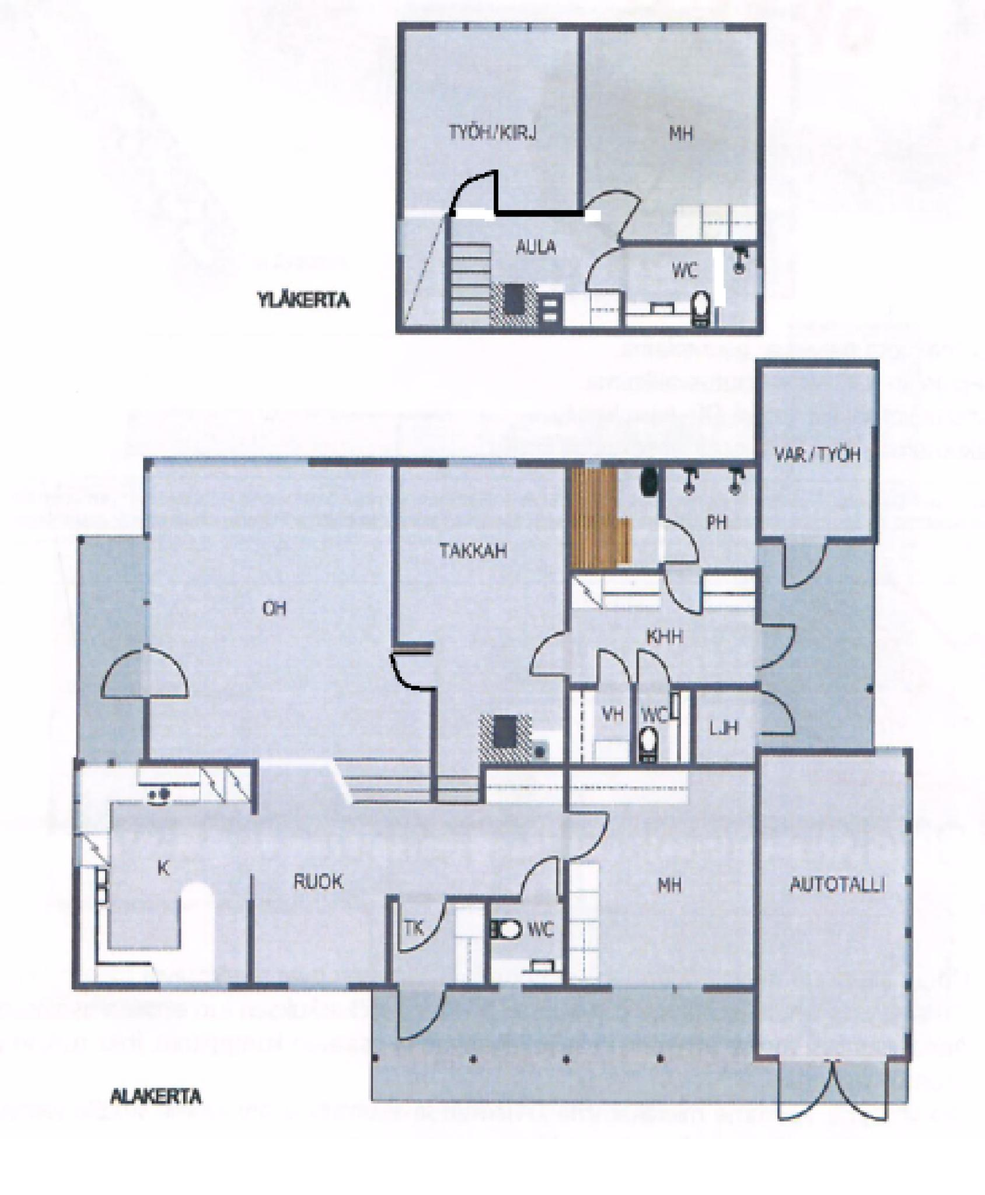door: (765, 1052, 893, 1130), (98, 636, 195, 713), (389, 888, 450, 955), (392, 982, 451, 1039), (585, 190, 644, 242), (577, 244, 637, 293), (661, 563, 708, 619), (520, 630, 573, 676), (783, 539, 829, 592), (752, 691, 806, 734), (563, 815, 611, 863), (653, 520, 702, 566), (517, 854, 560, 906), (387, 645, 434, 690), (451, 169, 493, 218), (750, 624, 794, 668), (634, 652, 679, 693), (593, 657, 632, 691)
window: (903, 775, 917, 1044), (631, 20, 725, 41), (159, 978, 230, 1000), (426, 19, 555, 31), (141, 460, 157, 529), (288, 981, 347, 998), (443, 460, 524, 472), (580, 455, 601, 468)
zone: (149, 459, 428, 772), (375, 987, 901, 1117), (250, 778, 570, 980), (758, 746, 907, 1062), (434, 460, 568, 759), (71, 765, 253, 982), (577, 772, 750, 988), (402, 219, 756, 323), (585, 28, 750, 236), (401, 30, 582, 214), (764, 546, 878, 755), (571, 574, 760, 694), (757, 361, 865, 543), (575, 683, 702, 765), (662, 460, 752, 566), (567, 470, 658, 570), (699, 689, 763, 760)
